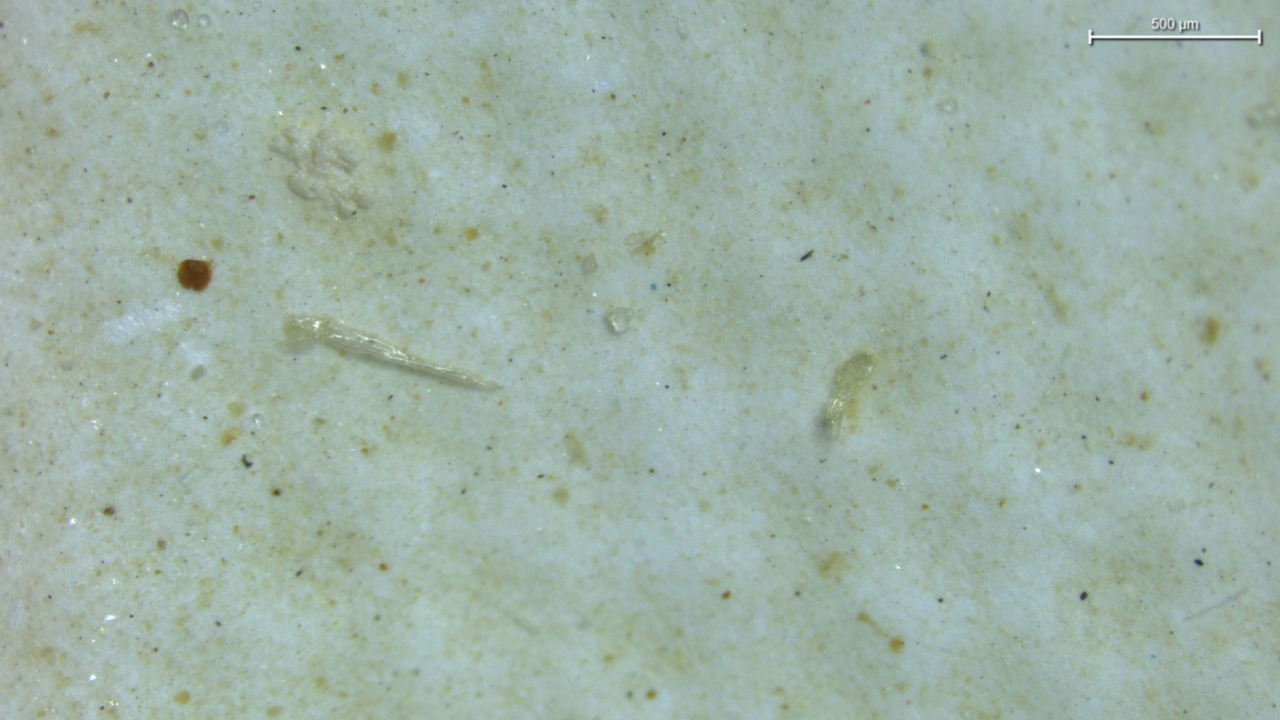microplastic_fragment: (271, 132, 367, 217), (819, 351, 878, 440), (604, 306, 638, 335)
